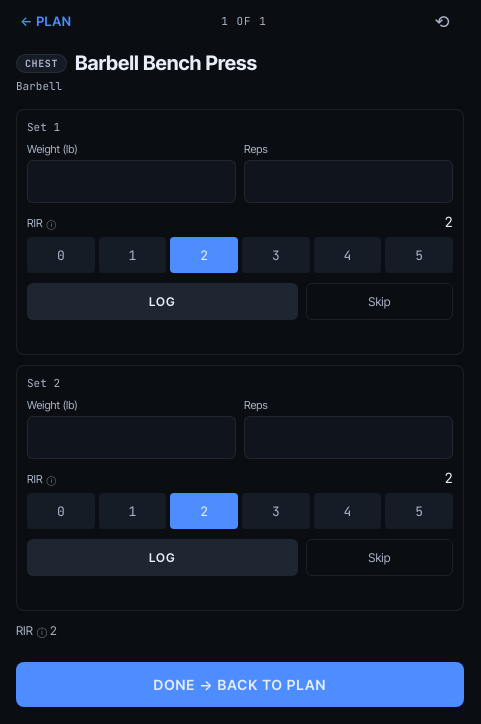
Test: <TodayLoggerMobile> › focus screen › Log button is disabled until weight + reps are filled
Check: the 1st button "Log" is disabled, box [27,283,298,320]
Type "185" into the number field named "weight in pounds". click: x=132, y=182
box: [27,160,236,203]
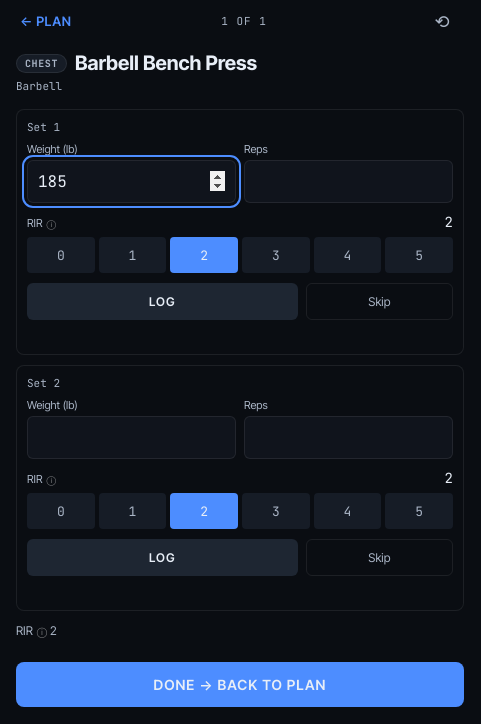
Check: the 1st button "Log" is disabled, box [27,283,298,320]
Type "7" into the number field named "Set 1 reps". click: x=348, y=182
box: [244,160,453,203]
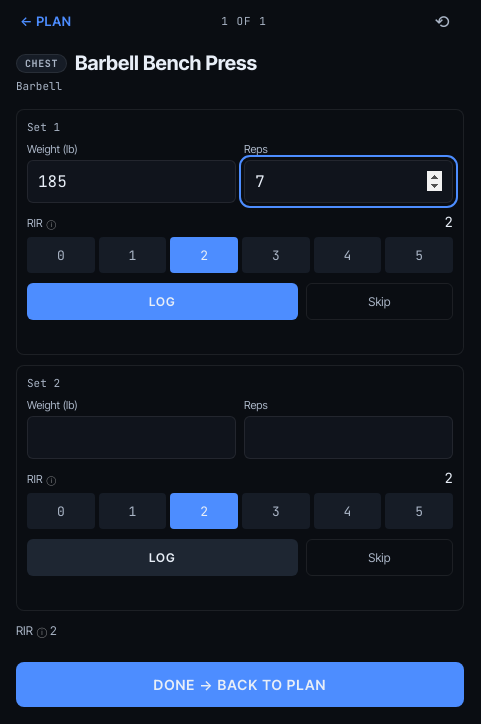
Check: the 1st button "Log" is enabled, box [27,283,298,320]
